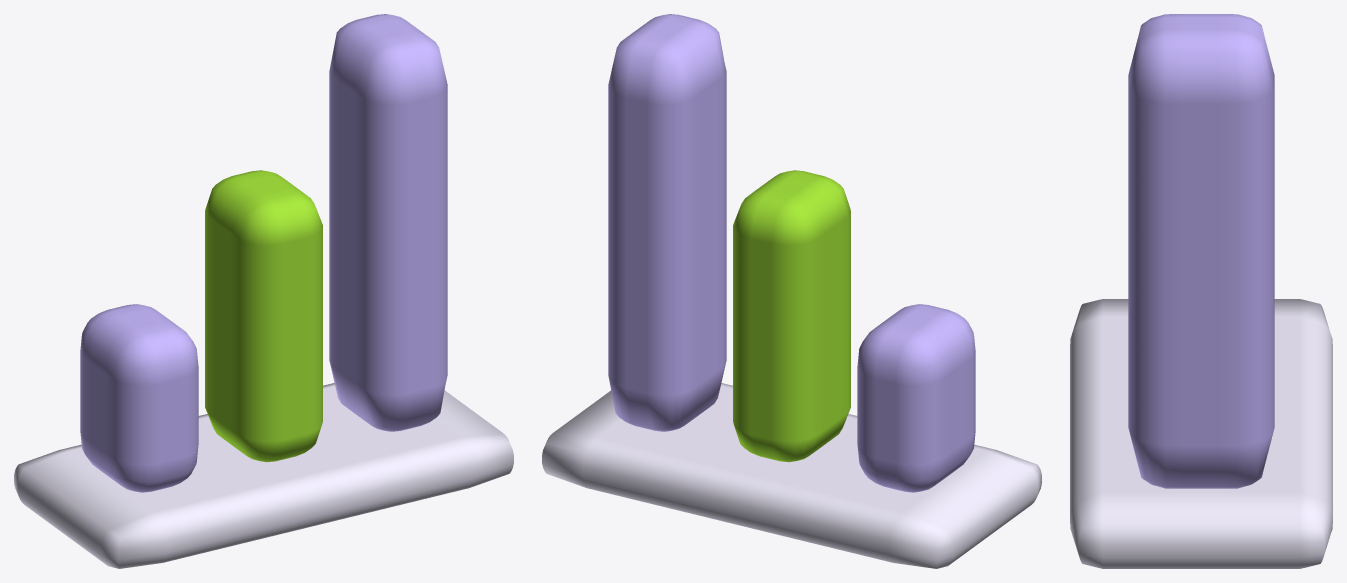
File: chart.glb
3 renders of one model, left to right at view 1: azimuth 30°, elevation 25°; view 2: azimuth 150°, elevation 25°; view 3: azimuth 270°, elevation 25°, orthographic. The views are drawn at different scales.
Visible parts, largest first — view 1: chart; view 2: chart; view 3: chart.
Part boxes in pixels (box(x1,y1,x2,y2)): chart: box(14, 14, 513, 568); chart: box(542, 14, 1041, 568); chart: box(1070, 14, 1332, 568).
Size of the model in its own units: 1.9 by 1.93 by 0.9.
